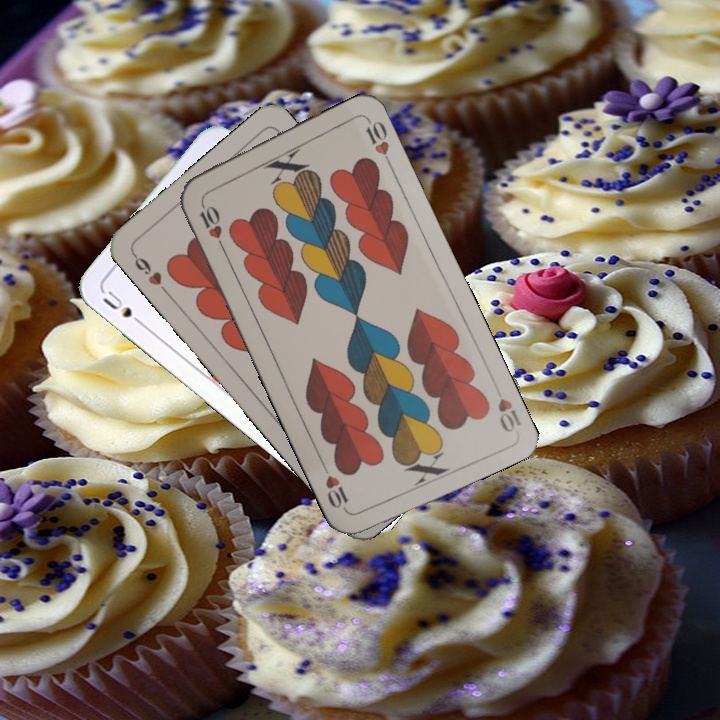H10: (195, 195, 227, 252), (493, 394, 524, 435)
H9: (128, 248, 171, 297)
SU: (98, 286, 149, 330)
